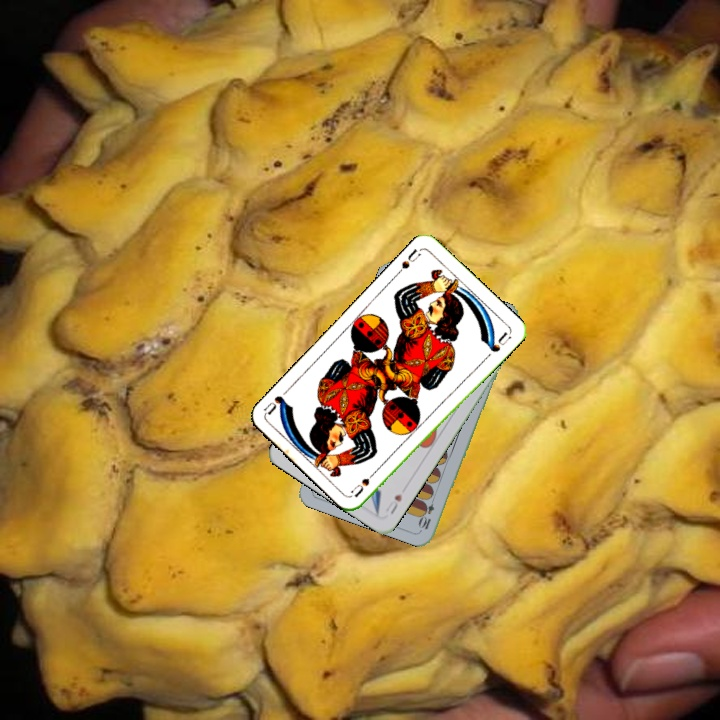E10: (416, 492, 438, 532)
HU: (382, 490, 405, 517)
SU: (347, 465, 381, 500), (392, 245, 424, 278)
